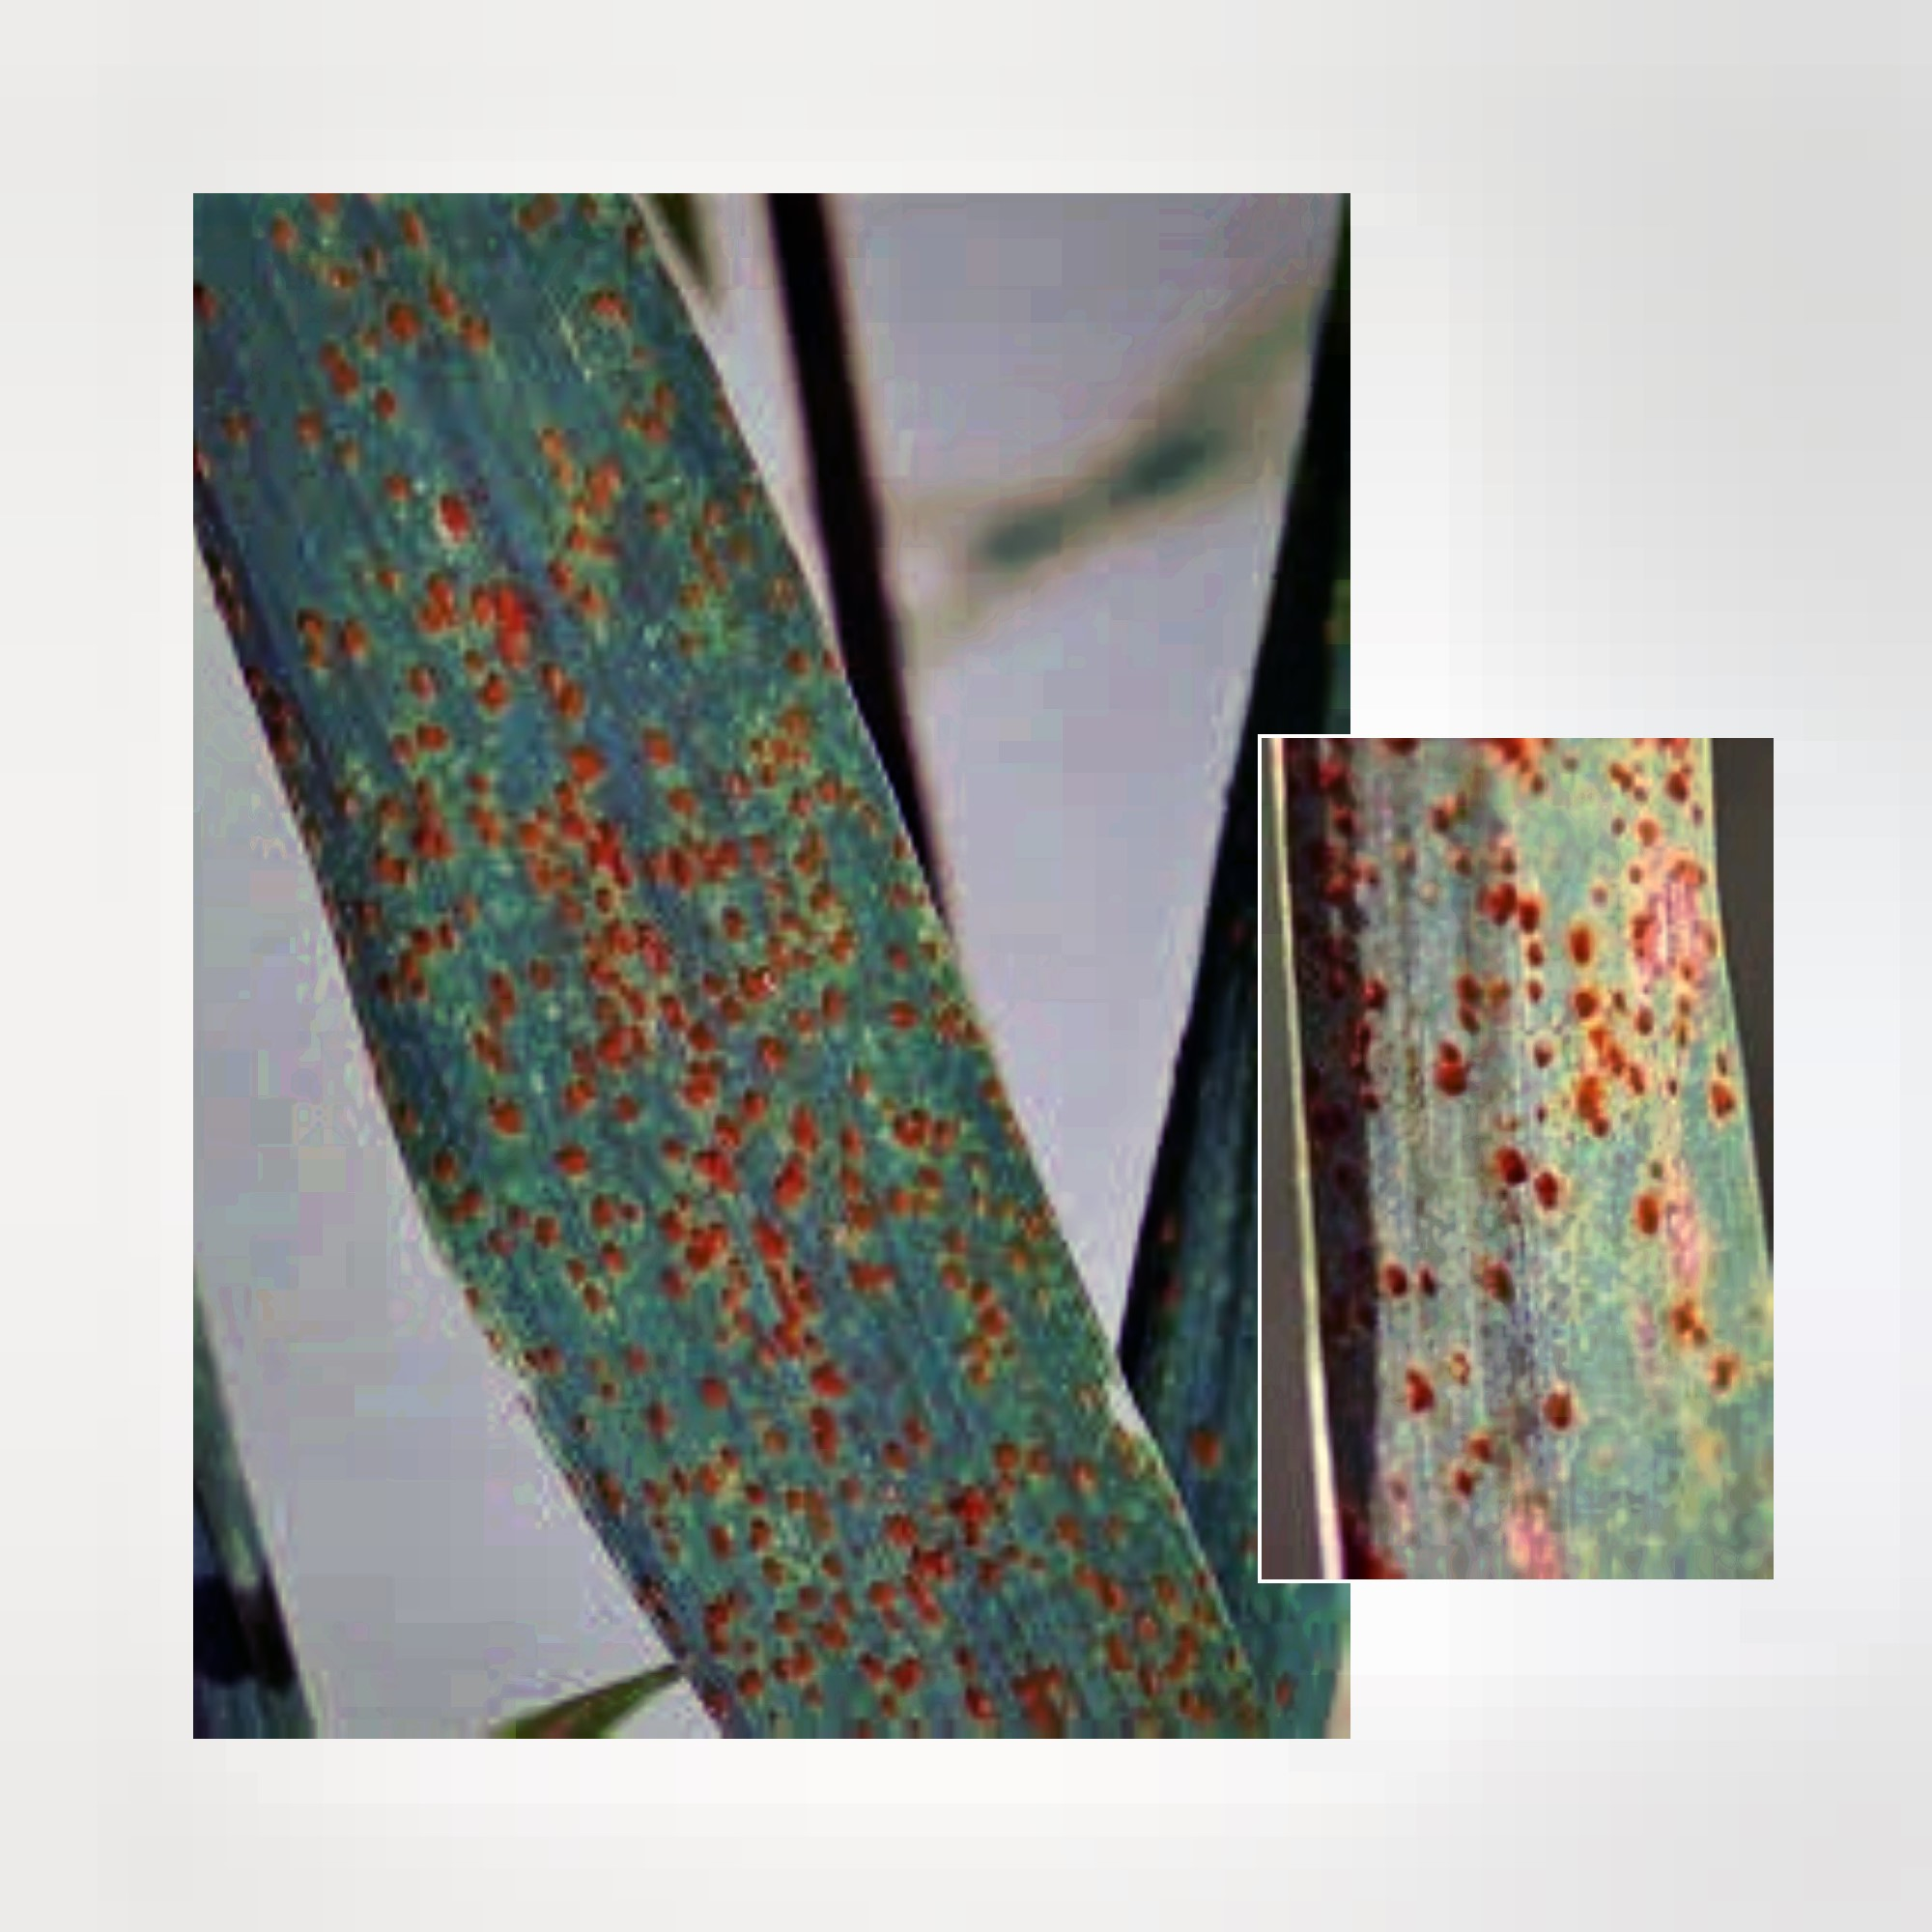Leaf Rust: (285, 387, 1187, 1635), (1290, 761, 1767, 1479)
